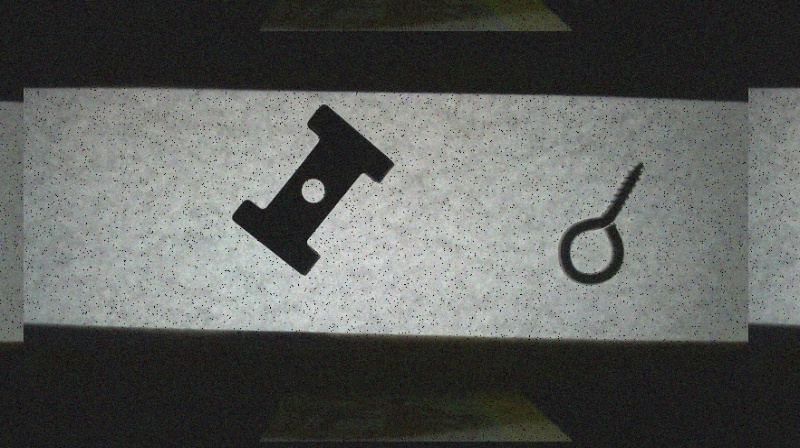O001: (553, 157, 648, 285)
O002: (230, 102, 399, 277)
